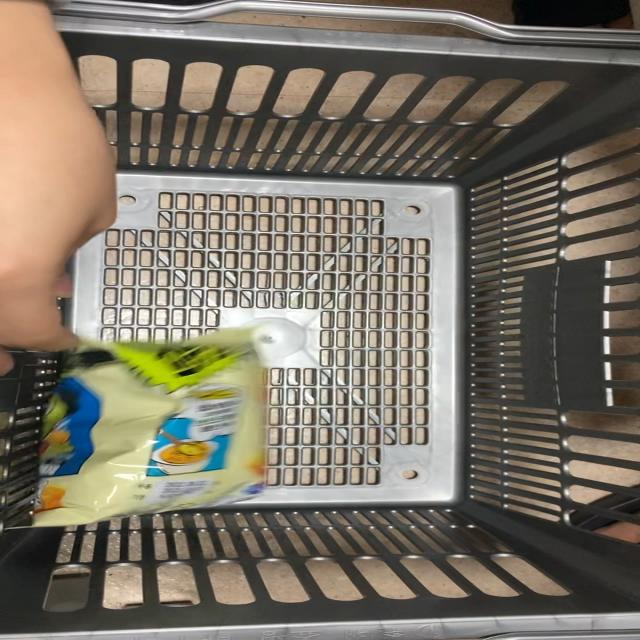ggobukchip: (45, 332, 279, 520)
